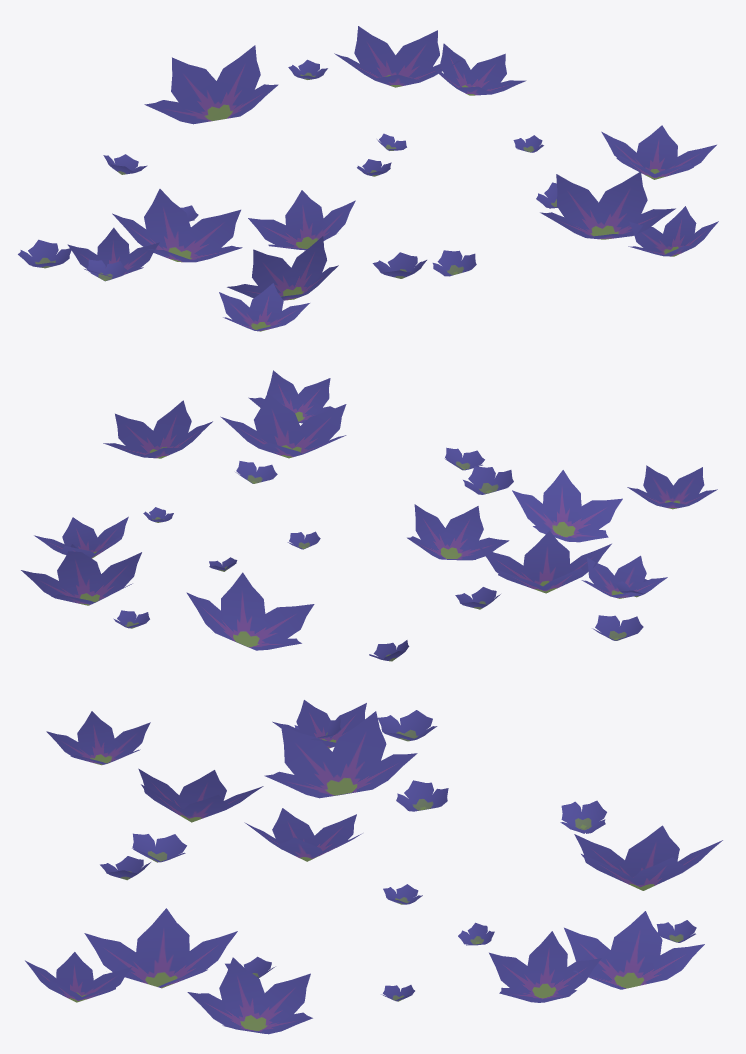
Rendered from SM_Env_Flower_04.fbx.
3 renders of one model, top to bottom at view 1: azimuth 30°, elevation 25°; view 2: azimuth 150°, elevation 25°; view 3: azimuth 270°, elevation 25°, orthographic. The views are drawn at different scales.
Parts seen in each view (by area): view 1: SM_Env_Flower_04; view 2: SM_Env_Flower_04; view 3: SM_Env_Flower_04.
Part boxes in pixels (x1,y1,x2,y2): SM_Env_Flower_04: (18, 26, 718, 331); SM_Env_Flower_04: (21, 370, 717, 661); SM_Env_Flower_04: (25, 700, 722, 1034).
Size of the model in its own units: 96.8 by 9.27 by 83.73.
